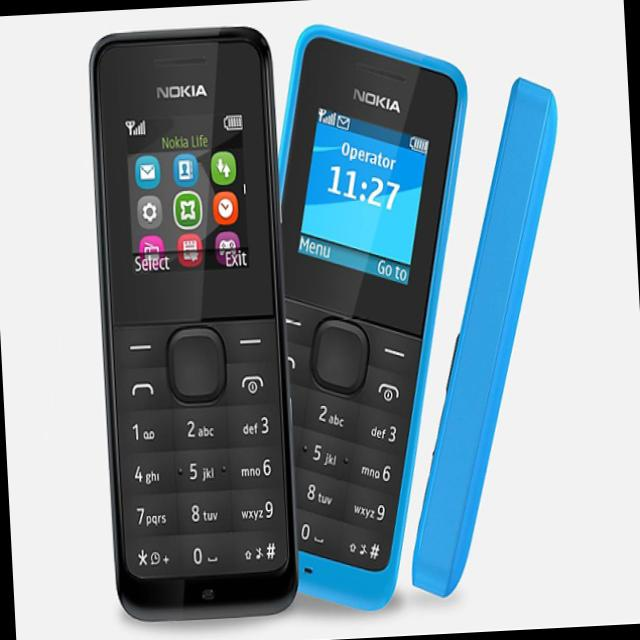mobile_phone: (2, 0, 640, 640), (274, 17, 589, 604), (68, 19, 337, 640)
